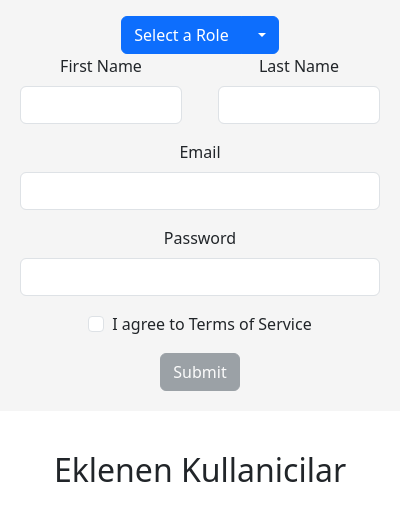
Test case: Form testleri › form dolduktan sonra button disabled mi
The image size is (401, 524).
In the field with test id "input-name": (101, 105) [20,86,182,124], type "emre"
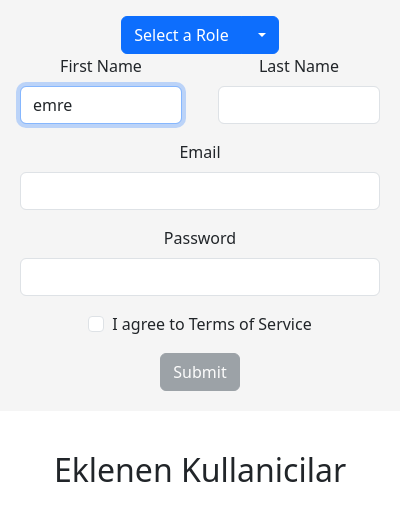
In the field with test id "email-input": (200, 191) [20,172,380,210], type "emre@example.com"
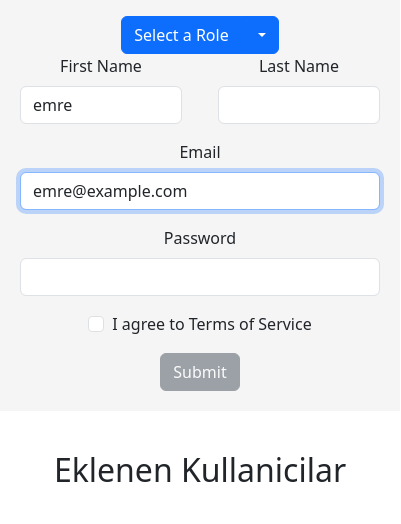
In the password field with test id "pass-input": (200, 277) [20,258,380,296], type "examplepass"
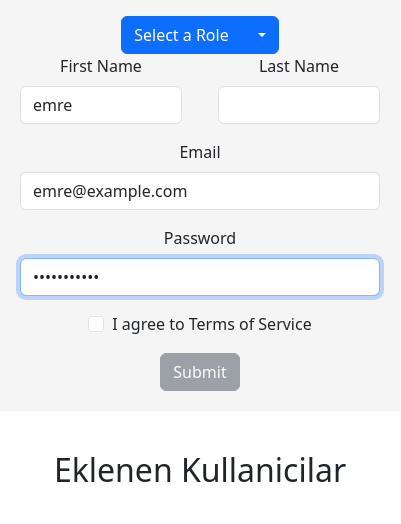
Check the checkbox with test id "input-terms": (96, 324) [88,316,104,332]
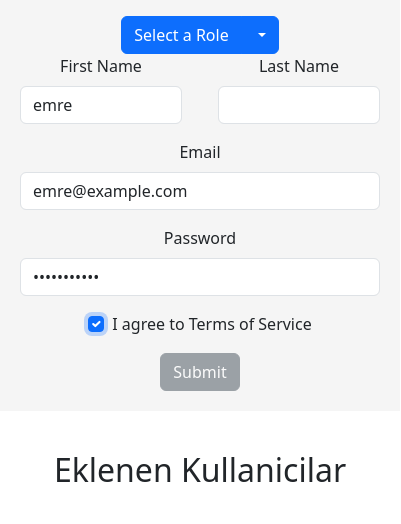
expect the button with test id "input-submit" is disabled: met, box [160,353,239,391]
Clear the field with test id "input-name": (101, 105) [20,86,182,124]
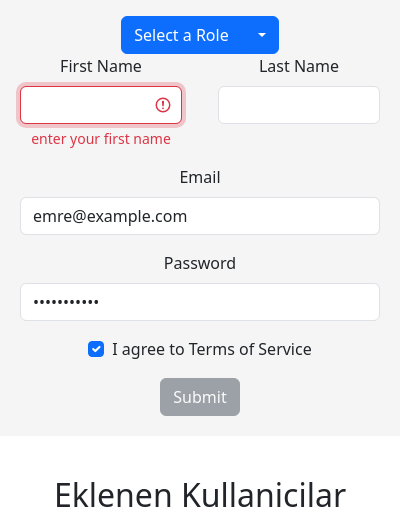
expect the text "enter your first name" is shown: met, box [20,128,182,149]
